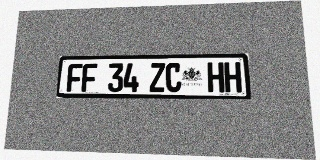3: (108, 63, 124, 92)
4: (123, 63, 139, 92)
C: (166, 63, 181, 92)
F: (81, 63, 97, 92), (67, 64, 83, 92)
H: (207, 62, 225, 92), (224, 62, 242, 92)
Z: (150, 63, 165, 92)
